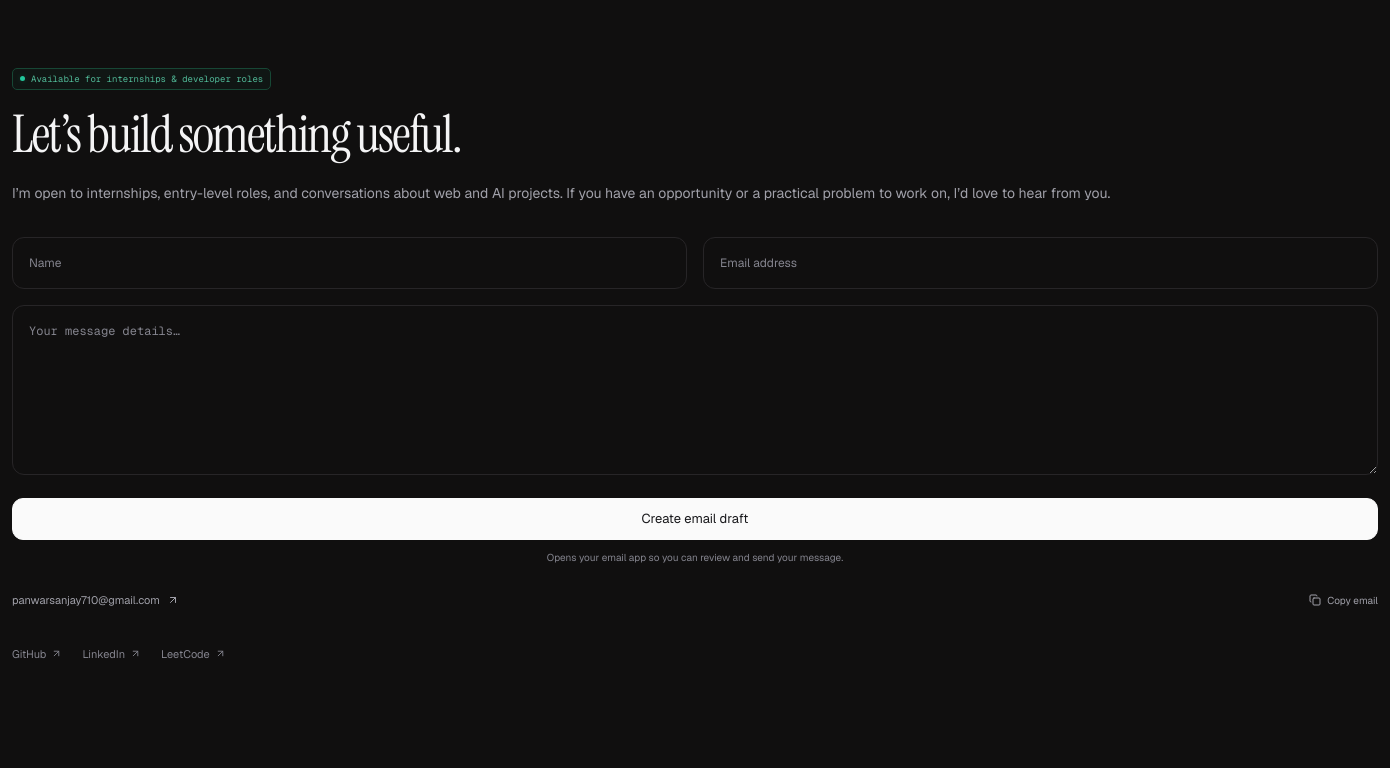
contact actions › copies the real email and reports successful completion
Click the button "Copy email". click: click(1344, 600)
box: 1309,588 -> 1378,613
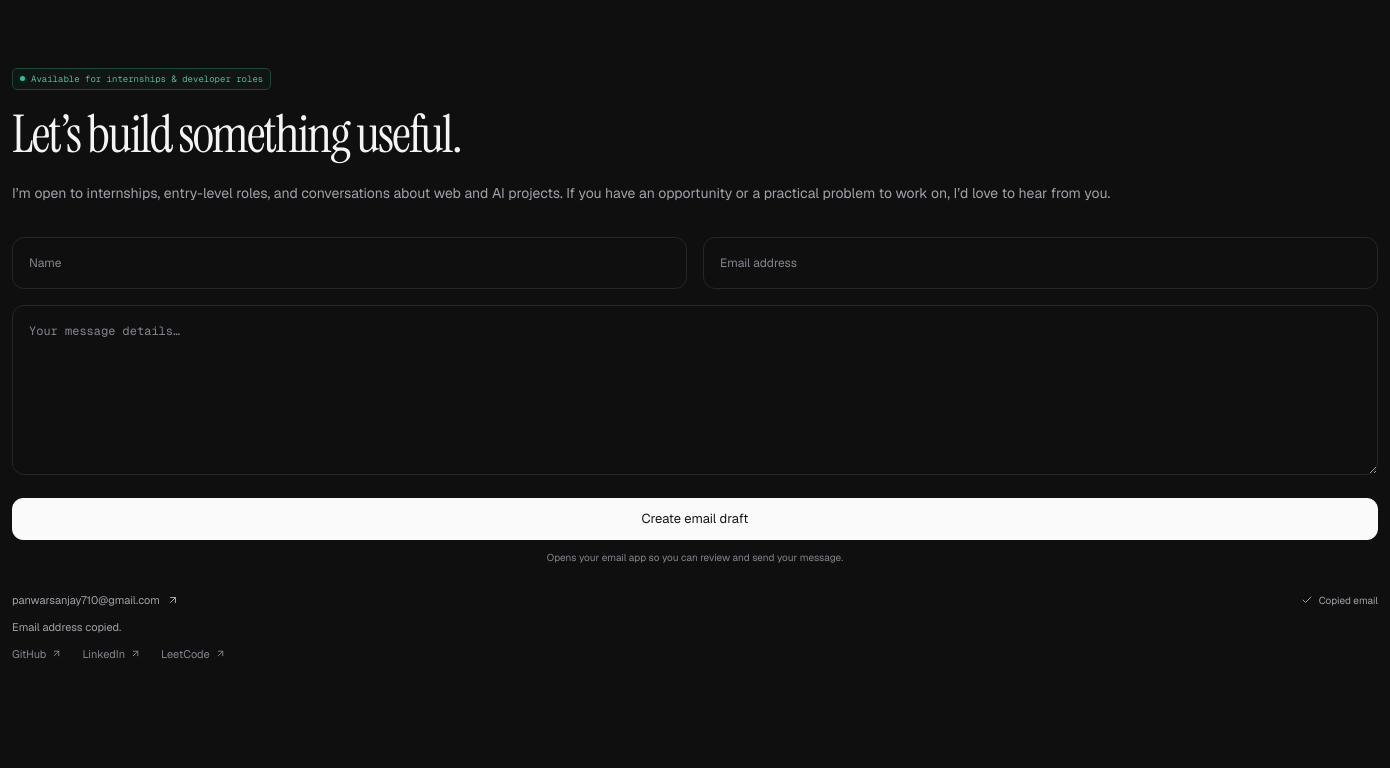
Now the message reads "Email address copied.", box 12,620 -> 121,634
